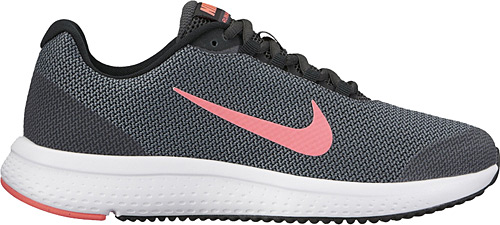nike: (170, 84, 334, 161)
